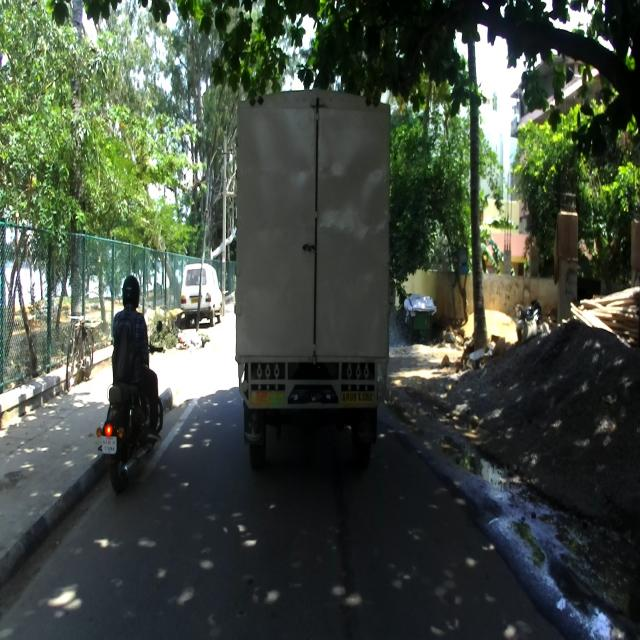car: (180, 262, 223, 326)
motorcycle: (97, 319, 164, 491)
truck: (234, 87, 390, 471)
